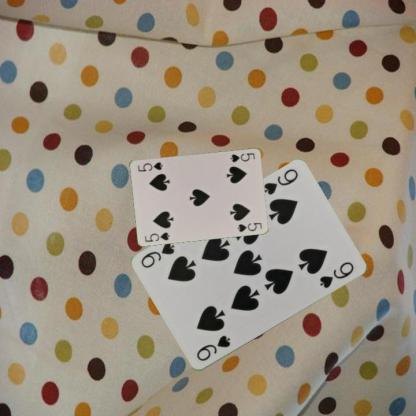5s: (142, 229, 171, 243), (228, 150, 256, 163)
9s: (194, 333, 232, 363), (261, 166, 299, 196)
